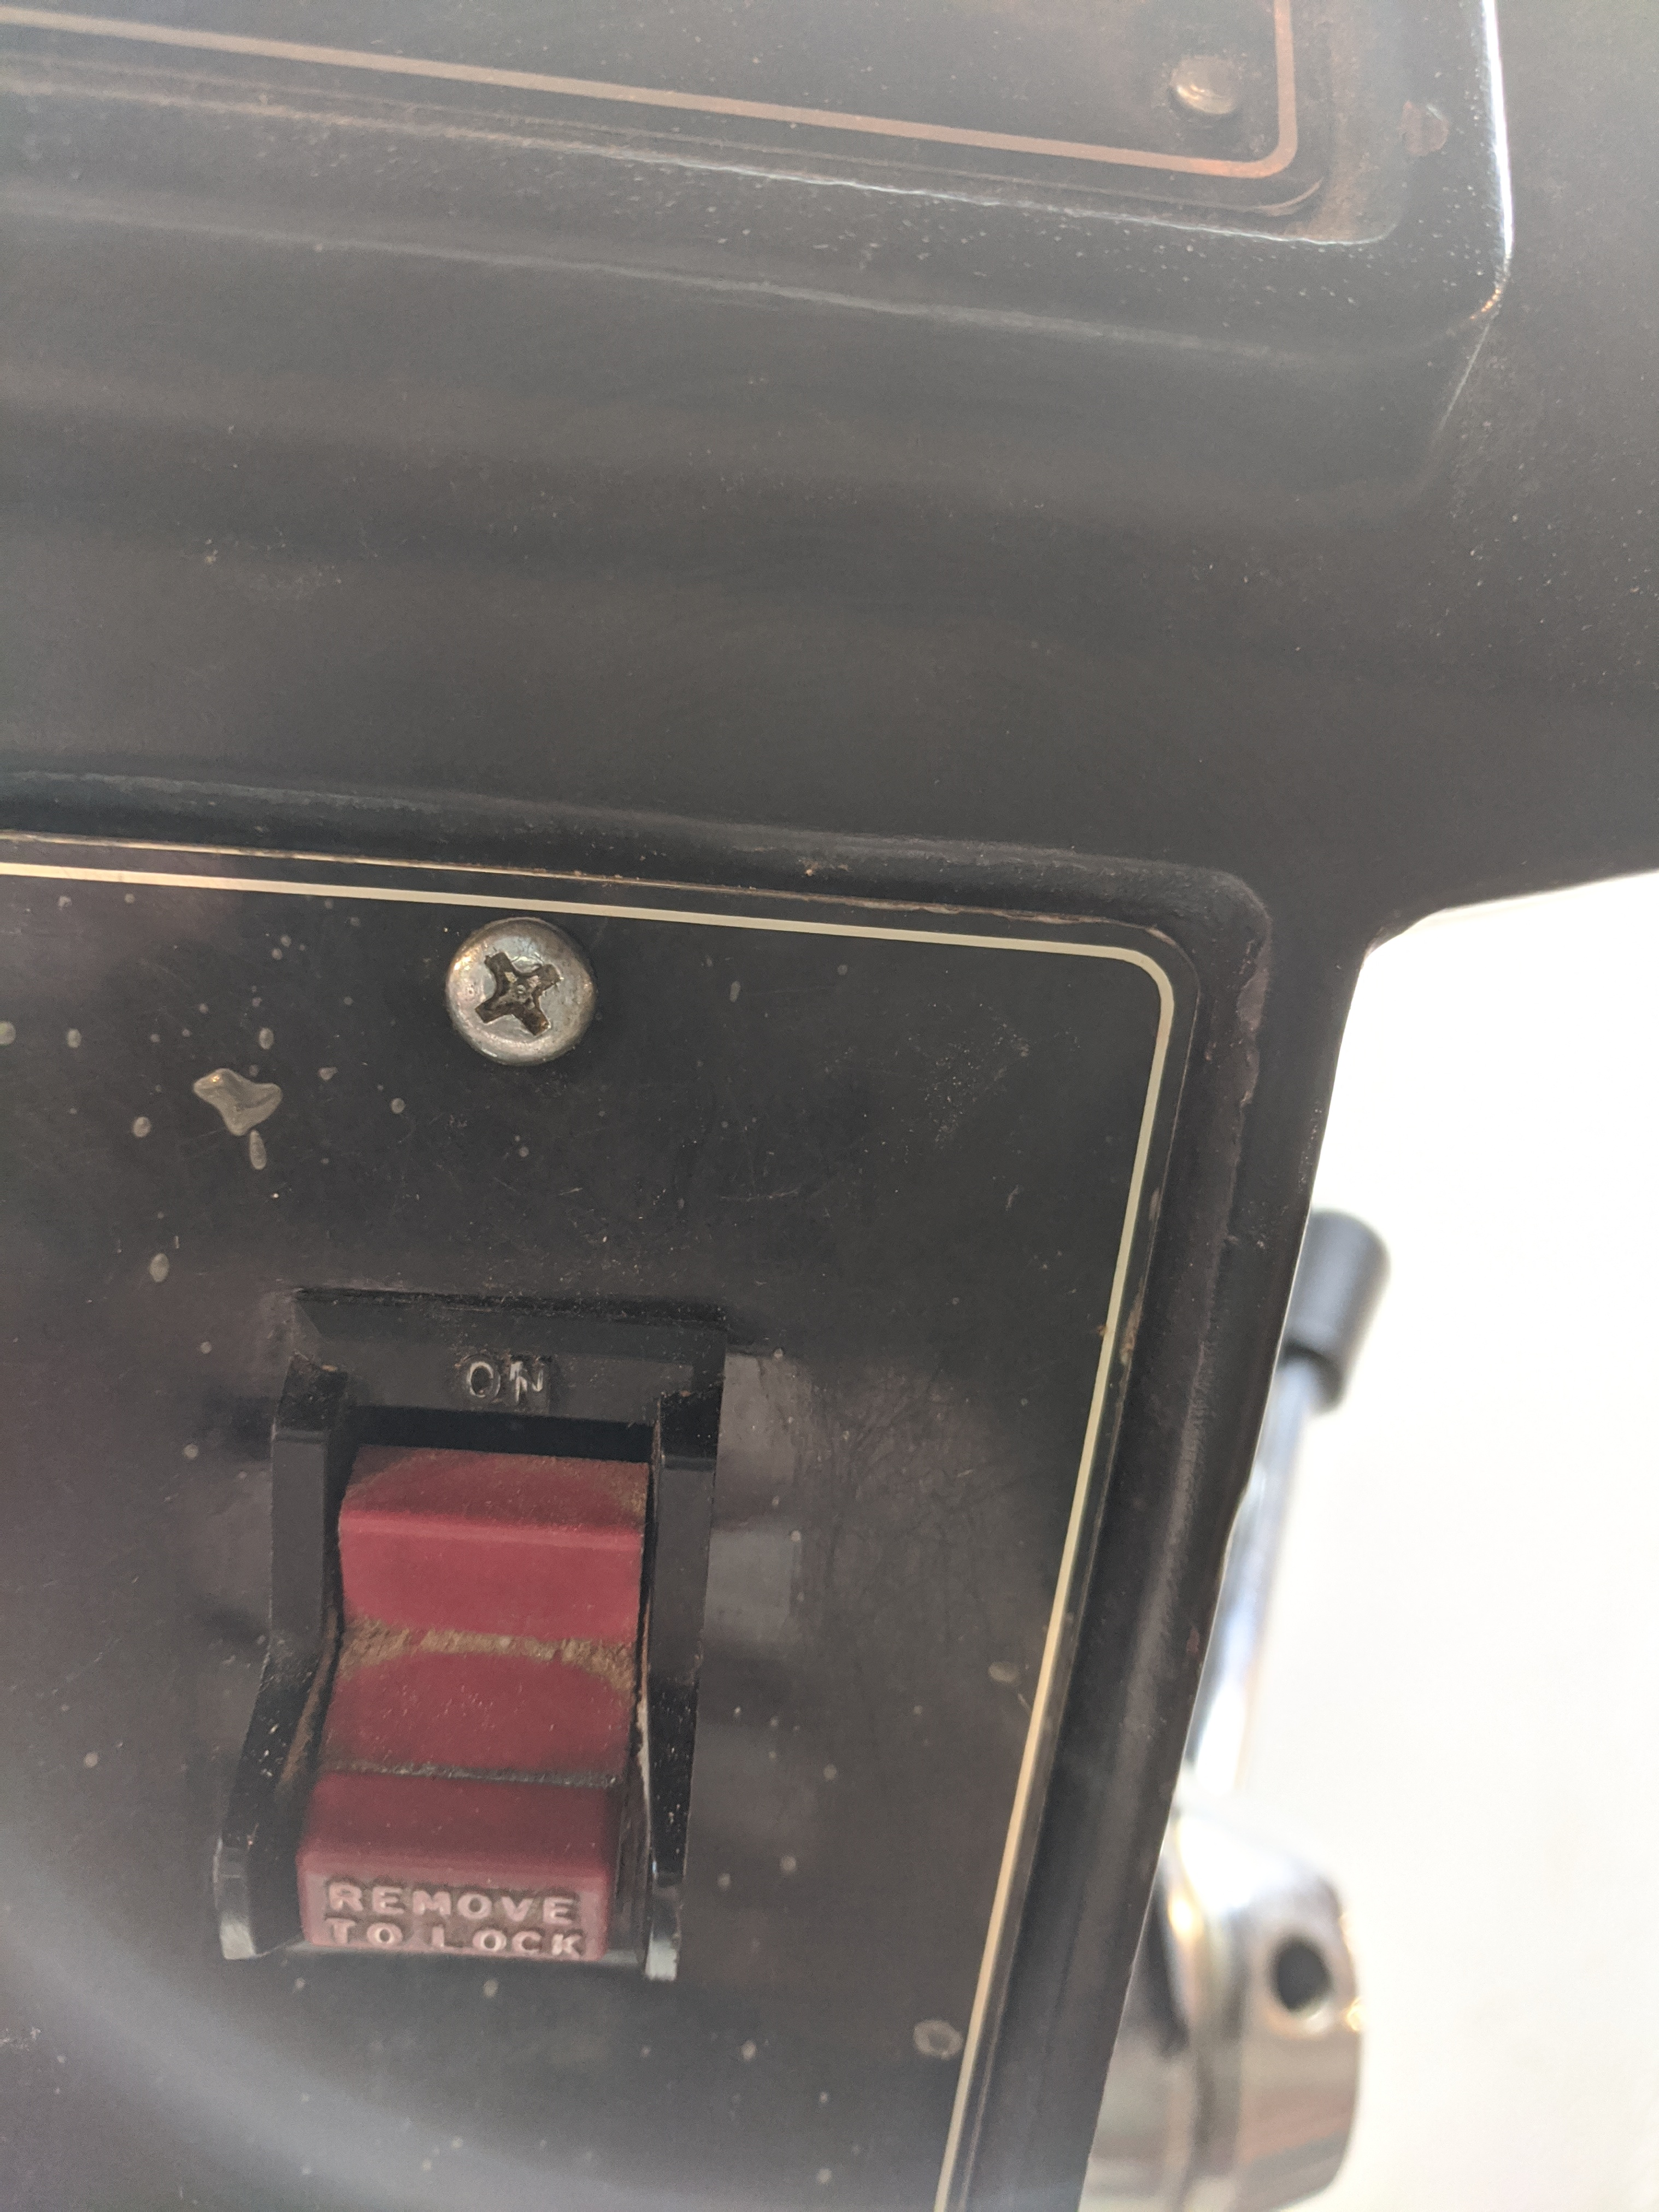cross_recessed_screw: (430, 906, 603, 1075)
